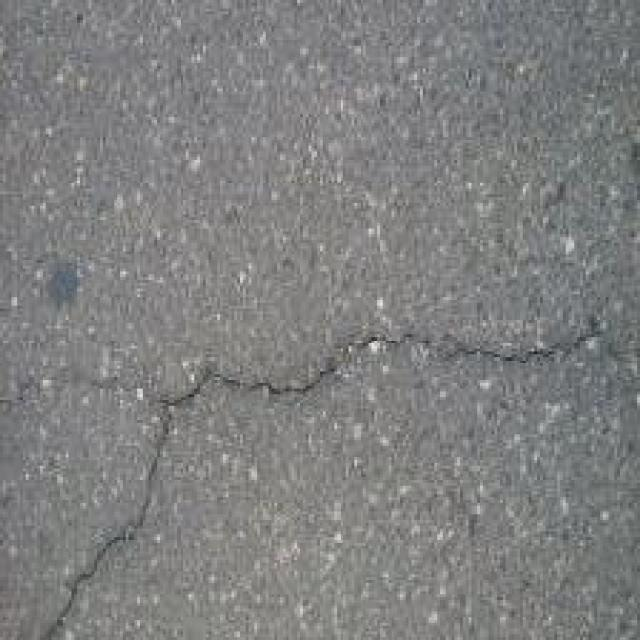SurfaceCrack: (48, 298, 590, 640)
